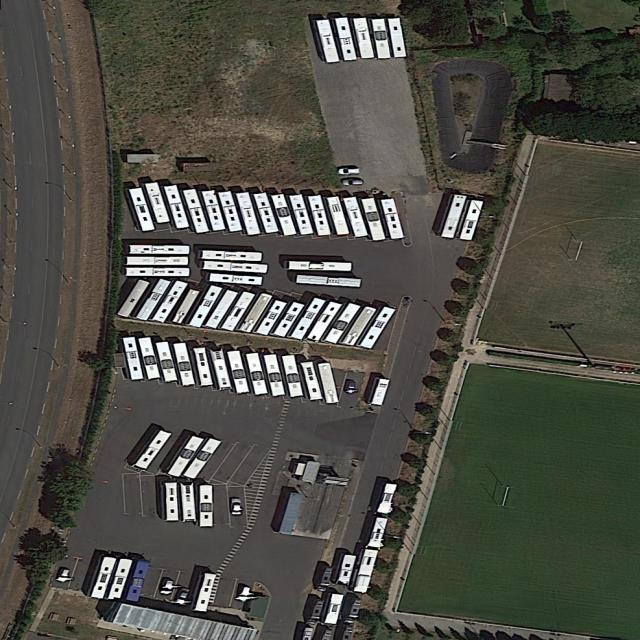large-vehicle: (182, 438, 224, 479), (360, 306, 397, 350), (324, 302, 362, 344), (135, 278, 172, 321), (152, 280, 189, 323), (167, 436, 205, 477), (290, 298, 327, 340), (134, 430, 173, 469), (220, 291, 257, 332), (204, 289, 240, 330), (306, 301, 342, 342), (341, 306, 377, 346), (239, 292, 274, 333), (189, 285, 223, 327), (87, 555, 119, 599), (116, 279, 151, 318), (128, 187, 156, 233), (183, 188, 210, 234), (314, 18, 341, 64), (255, 300, 289, 336), (441, 194, 468, 239), (351, 549, 378, 594), (235, 192, 262, 236), (274, 301, 306, 338), (458, 199, 486, 241), (165, 184, 191, 229), (145, 181, 172, 224), (124, 559, 151, 602), (271, 194, 298, 236), (361, 198, 387, 241), (342, 196, 369, 237), (289, 194, 315, 236), (171, 288, 201, 324), (335, 17, 359, 62), (108, 558, 134, 599), (202, 189, 227, 231), (122, 336, 145, 381), (263, 354, 287, 397), (254, 193, 279, 234), (219, 191, 244, 232), (381, 198, 405, 240), (353, 17, 376, 59), (173, 343, 196, 385), (327, 196, 351, 236), (193, 572, 217, 612), (156, 342, 180, 382), (209, 348, 233, 388), (202, 260, 270, 274), (228, 350, 250, 393), (309, 195, 332, 236), (139, 337, 161, 379), (246, 353, 268, 395), (318, 362, 340, 404), (302, 361, 325, 401), (283, 356, 304, 397), (296, 274, 362, 287), (193, 347, 215, 385), (200, 249, 263, 262), (372, 18, 391, 59), (388, 17, 407, 58), (208, 272, 263, 286), (289, 260, 353, 272), (322, 593, 344, 626), (368, 516, 390, 548), (340, 595, 362, 625), (126, 267, 190, 277), (126, 256, 189, 266), (199, 485, 214, 527), (181, 482, 197, 521), (337, 554, 357, 585), (377, 483, 397, 514), (164, 481, 179, 522), (130, 245, 191, 255), (305, 596, 326, 624), (371, 378, 392, 406), (315, 565, 336, 592)
small-vehicle: (235, 584, 254, 603), (172, 587, 192, 605), (159, 578, 176, 596), (54, 567, 72, 583), (230, 498, 243, 515), (344, 379, 357, 394), (338, 167, 362, 175), (342, 178, 364, 186)
